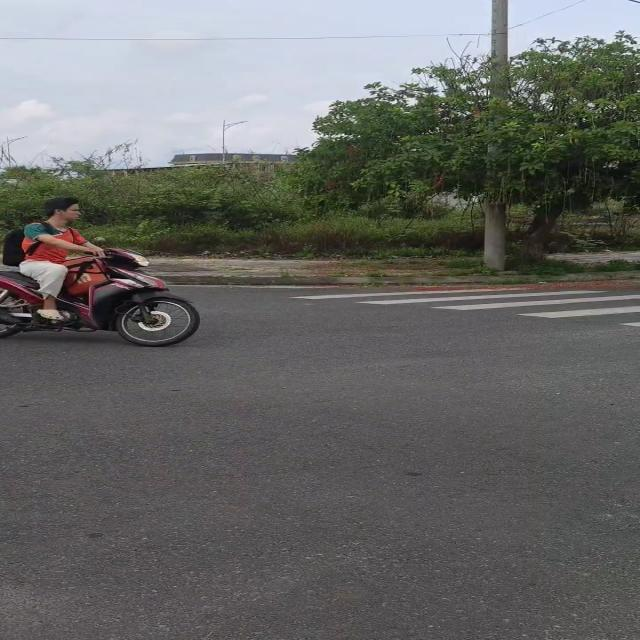no_helmet: (44, 194, 82, 227)
